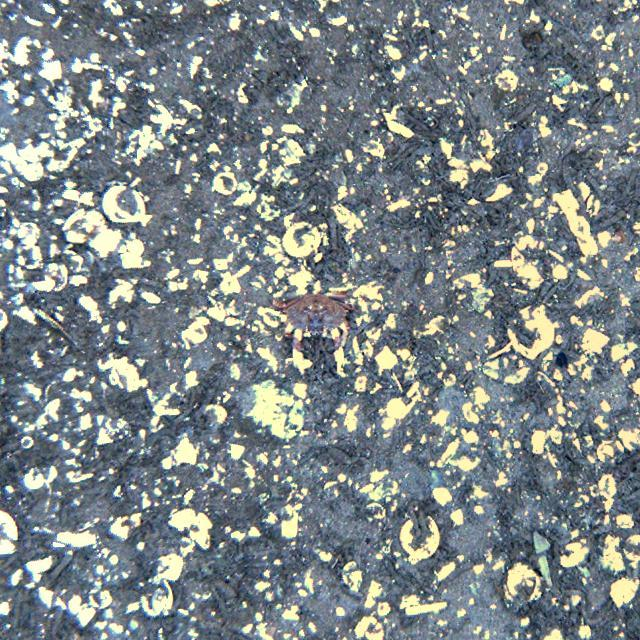crab: (268, 287, 354, 347)
